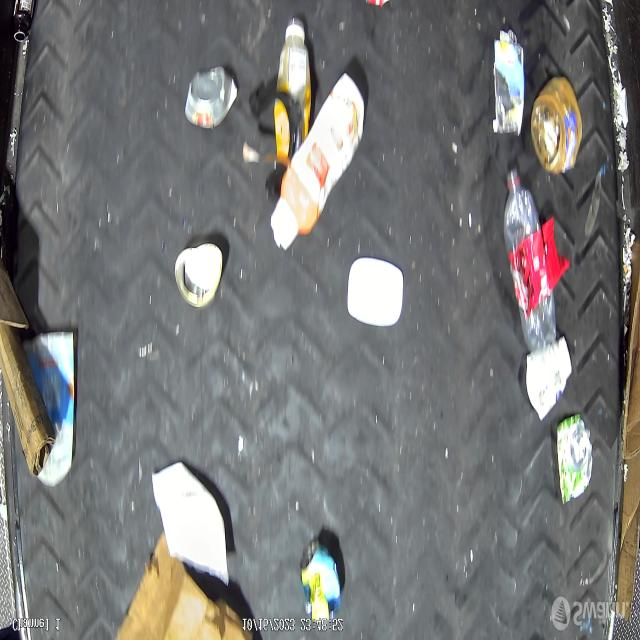can: (185, 65, 238, 132), (300, 539, 341, 621), (557, 414, 593, 504), (175, 241, 222, 306)
plastic_bottle: (504, 166, 557, 354)
